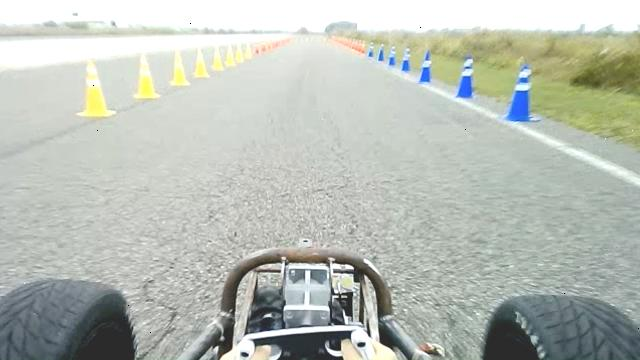blue cone: (503, 62, 541, 122), (455, 54, 475, 98), (418, 48, 433, 84), (401, 46, 411, 72), (388, 46, 397, 66), (377, 44, 385, 61), (367, 42, 375, 58)
red cone: (254, 41, 260, 55)
yellow cone: (76, 60, 116, 117), (134, 54, 160, 99), (170, 48, 190, 86), (193, 45, 210, 78), (213, 45, 224, 71), (225, 42, 236, 67), (235, 41, 244, 63), (245, 39, 252, 59)
